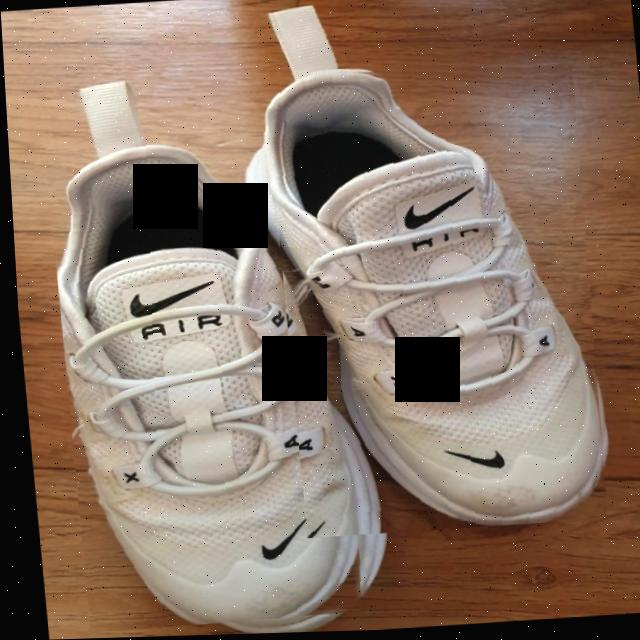shoe: (42, 122, 383, 634), (262, 57, 608, 540)
